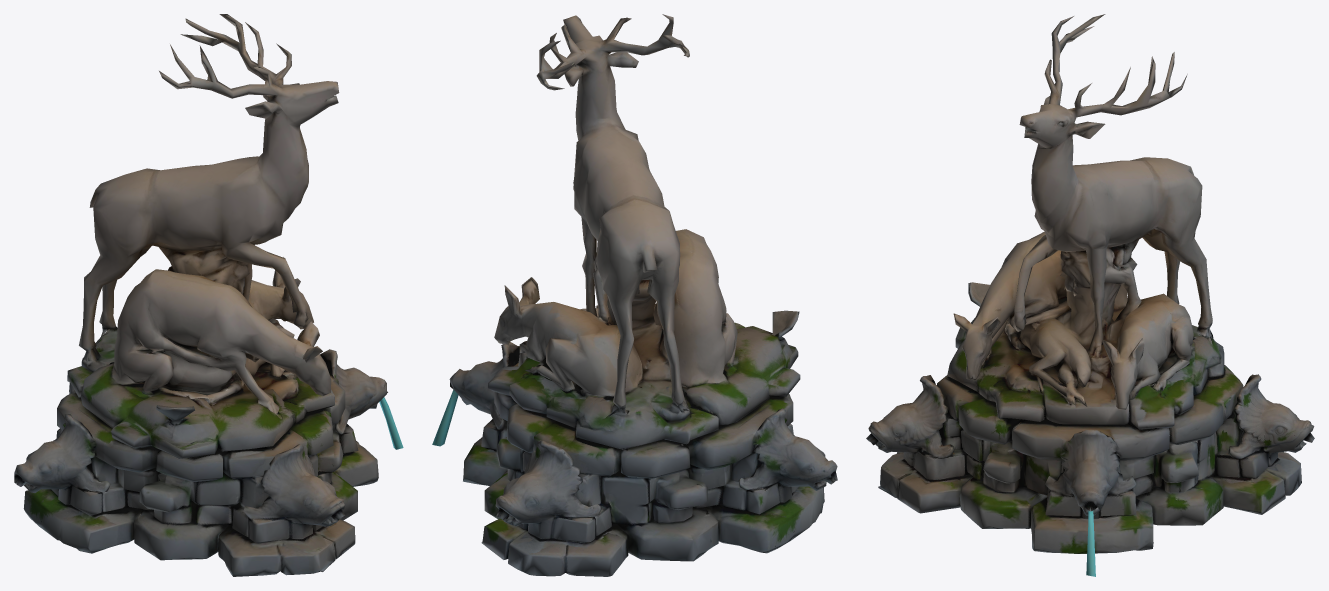
Rendered from brunnen.glb.
3 renders of one model, left to right at view 1: azimuth 30°, elevation 25°; view 2: azimuth 150°, elevation 25°; view 3: azimuth 270°, elevation 25°, orthographic. The views are drawn at different scales.
Visible parts, largest first — view 1: tripo_node_0c104c70-3a83-4562-ac5d-7113c9afed7d; view 2: tripo_node_0c104c70-3a83-4562-ac5d-7113c9afed7d; view 3: tripo_node_0c104c70-3a83-4562-ac5d-7113c9afed7d.
Part boxes in pixels (box(x1,y1,x2,y2)): tripo_node_0c104c70-3a83-4562-ac5d-7113c9afed7d: box(14, 14, 403, 576); tripo_node_0c104c70-3a83-4562-ac5d-7113c9afed7d: box(432, 14, 837, 576); tripo_node_0c104c70-3a83-4562-ac5d-7113c9afed7d: box(866, 14, 1314, 576).
Size of the model in its own units: 0.8616 by 0.9802 by 0.8659.
1 material, 1 textured.
